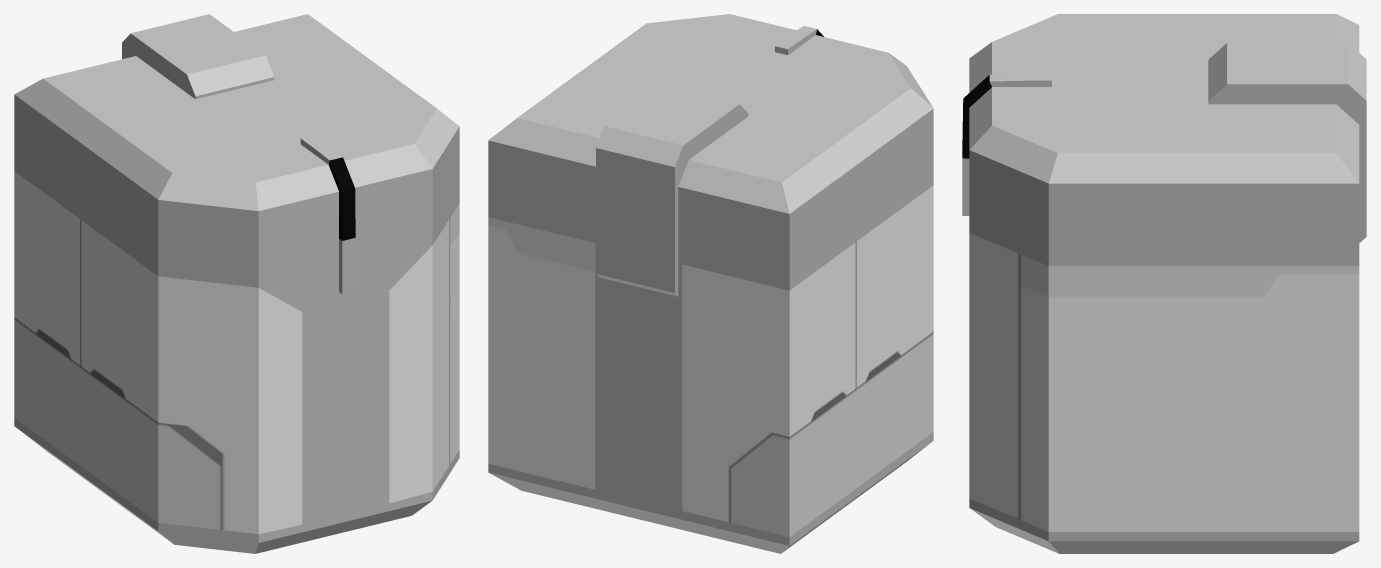
The model's file is SM_ContainerM_Box_1.fbx.
3 views of the same model, side by side, from view 1: azimuth 30°, elevation 25°; view 2: azimuth 150°, elevation 25°; view 3: azimuth 270°, elevation 25° (orthographic). The views are drawn at different scales.
Parts seen in each view (by area): view 1: SM_ContainerM_Box_1; view 2: SM_ContainerM_Box_1; view 3: SM_ContainerM_Box_1.
Boxes of the visible parts, bbox=[...] form: SM_ContainerM_Box_1: bbox=[14, 14, 459, 553]; SM_ContainerM_Box_1: bbox=[488, 14, 933, 553]; SM_ContainerM_Box_1: bbox=[962, 14, 1366, 553].
Size of the model in its own units: 81.38 by 101 by 87.77.
